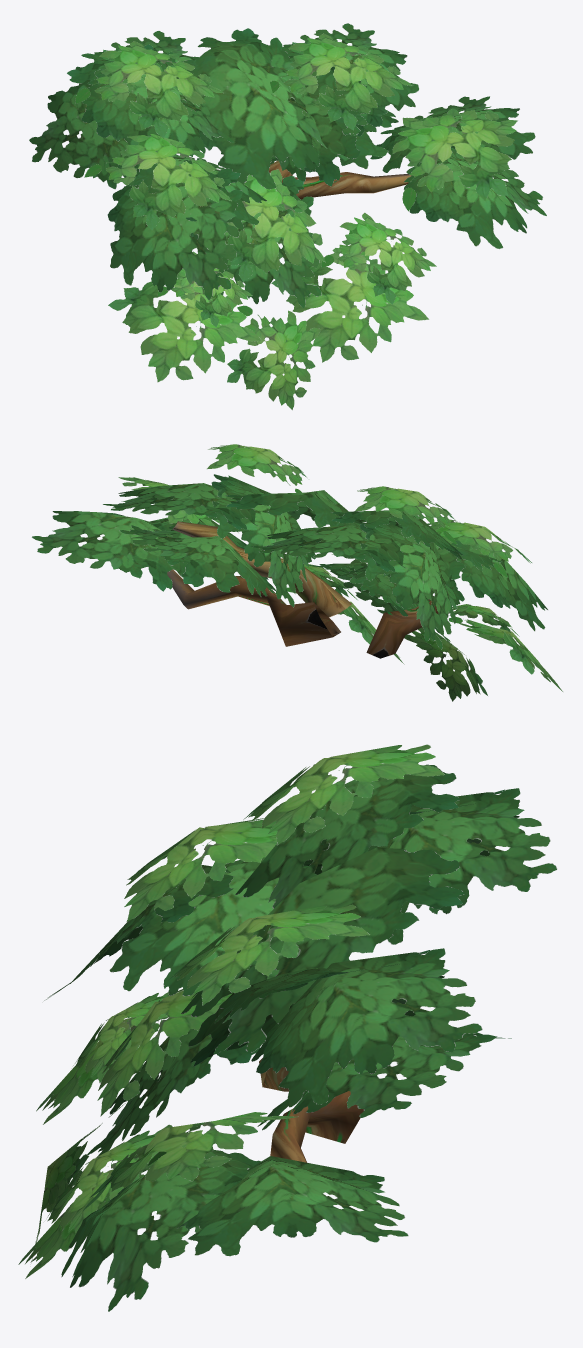
The model's file is shuye02.FBX.
The picture shows the model from 3 angles, top to bottom: view 1: azimuth 30°, elevation 25°; view 2: azimuth 150°, elevation 25°; view 3: azimuth 270°, elevation 25°; orthographic projection. The views are drawn at different scales.
Parts seen in each view (by area): view 1: shuye02; view 2: shuye02; view 3: shuye02.
Part boxes in pixels (bbox=[...]): shuye02: bbox=[29, 23, 546, 410]; shuye02: bbox=[32, 444, 562, 701]; shuye02: bbox=[18, 744, 557, 1311].
Size of the model in its own units: 354 by 212 by 221.
